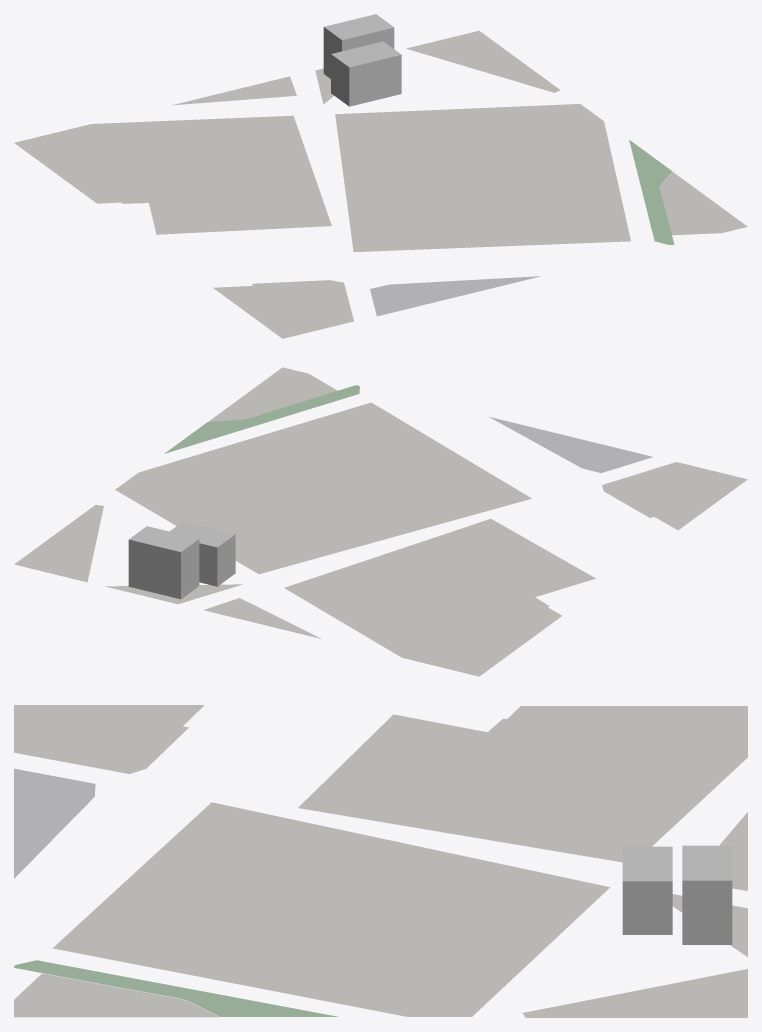
Rendered from 109_112_mid.glb.
The picture shows the model from 3 angles, top to bottom: view 1: azimuth 30°, elevation 25°; view 2: azimuth 150°, elevation 25°; view 3: azimuth 270°, elevation 25°; orthographic projection. The views are drawn at different scales.
Bounding box in the file's own units: 500 × 48.67 × 500.
